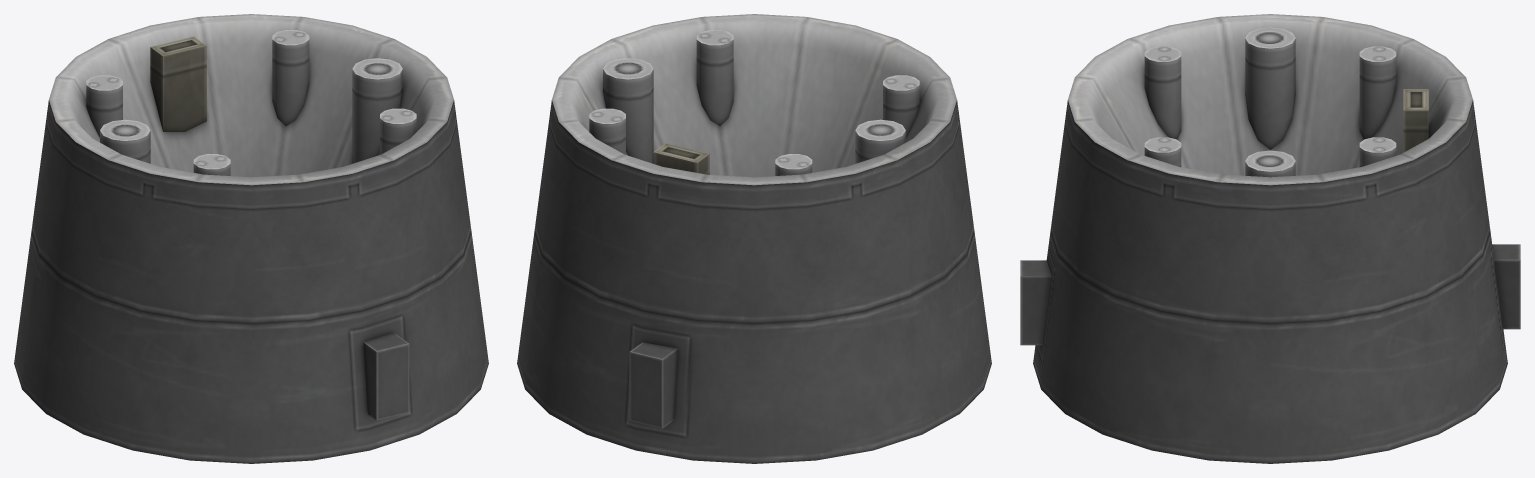
File: female.obj
3 views of the same model, side by side, from view 1: azimuth 30°, elevation 25°; view 2: azimuth 150°, elevation 25°; view 3: azimuth 270°, elevation 25° (orthographic).
Parts seen in each view (by area): view 1: female; view 2: female; view 3: female.
Part boxes in pixels (x1,y1,x2,y2): female: (14,14,488,463); female: (517,14,991,463); female: (1020,14,1520,463).
Bounding box in the file's own units: 0.9375 × 0.575 × 0.9875.
1 material, 1 textured.
